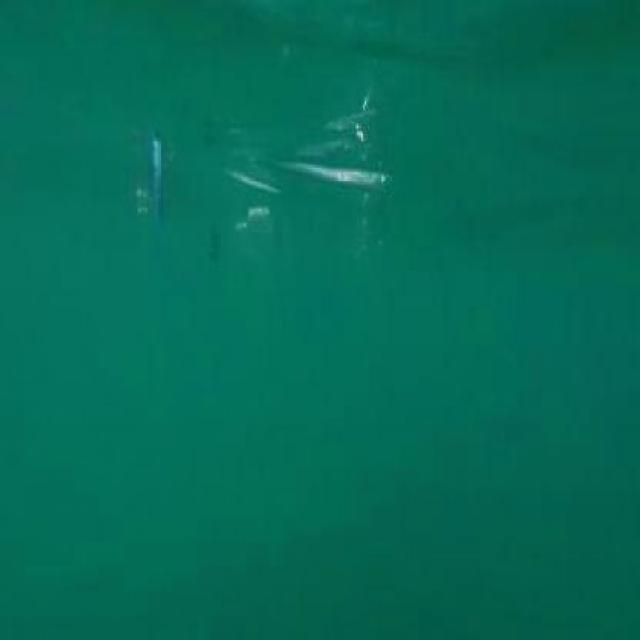pbottle: (132, 107, 423, 279)
